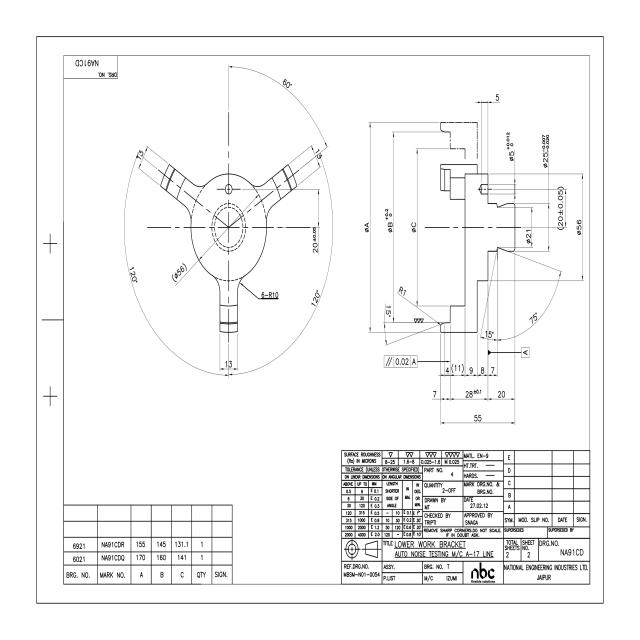dimension: (170, 260, 189, 286), (555, 185, 564, 232), (279, 75, 295, 95), (127, 263, 140, 287), (540, 133, 548, 170), (309, 286, 322, 308), (505, 132, 514, 163), (383, 208, 393, 235), (310, 225, 318, 255), (312, 146, 326, 163), (464, 388, 482, 399), (450, 361, 465, 374), (134, 146, 146, 161), (574, 218, 583, 238), (528, 310, 540, 325), (396, 283, 408, 298), (261, 290, 279, 299), (524, 228, 532, 246), (383, 304, 393, 318), (410, 218, 418, 235), (483, 328, 495, 339), (363, 220, 370, 236), (472, 413, 482, 423), (496, 390, 506, 399), (224, 359, 233, 368), (494, 92, 500, 103), (444, 366, 450, 376), (468, 366, 474, 376), (479, 366, 485, 376), (432, 389, 438, 399), (490, 366, 495, 376)
